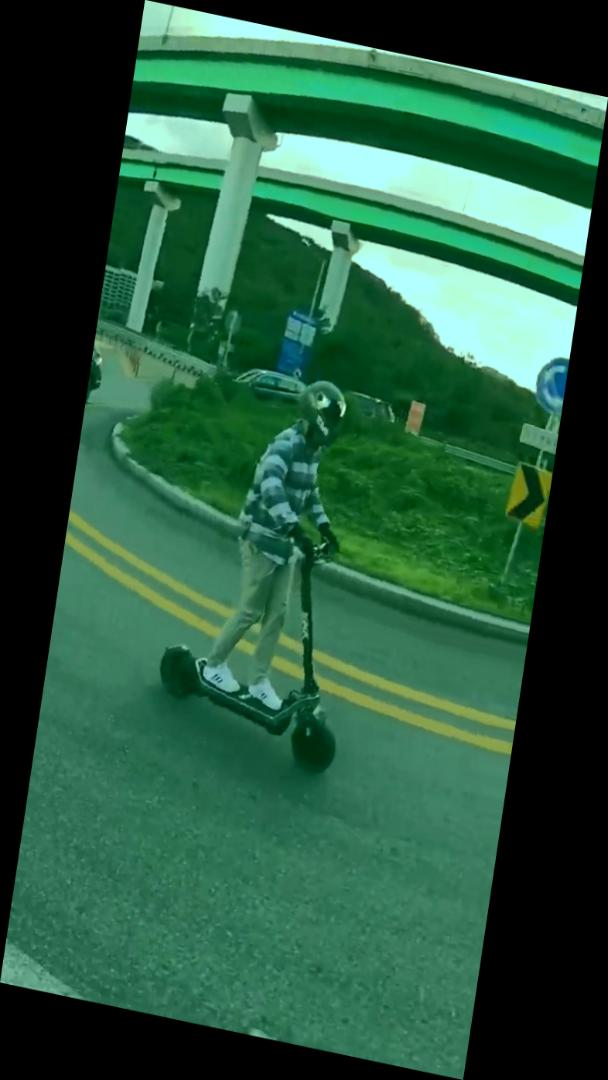helmet: (150, 352, 390, 780)
